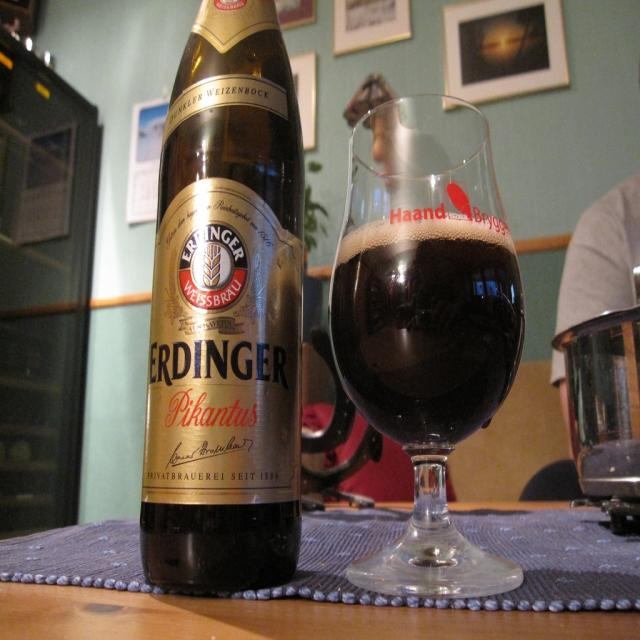erdinger: (147, 198, 294, 393)
